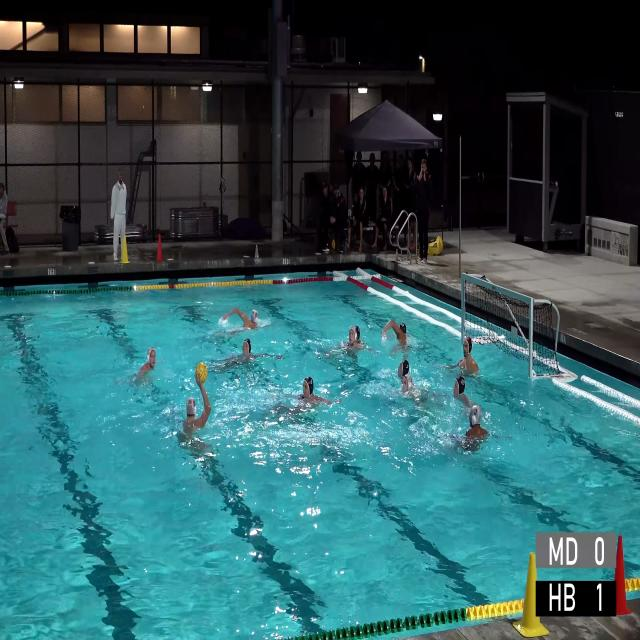ball: (195, 362, 208, 383), (332, 239, 335, 250)
